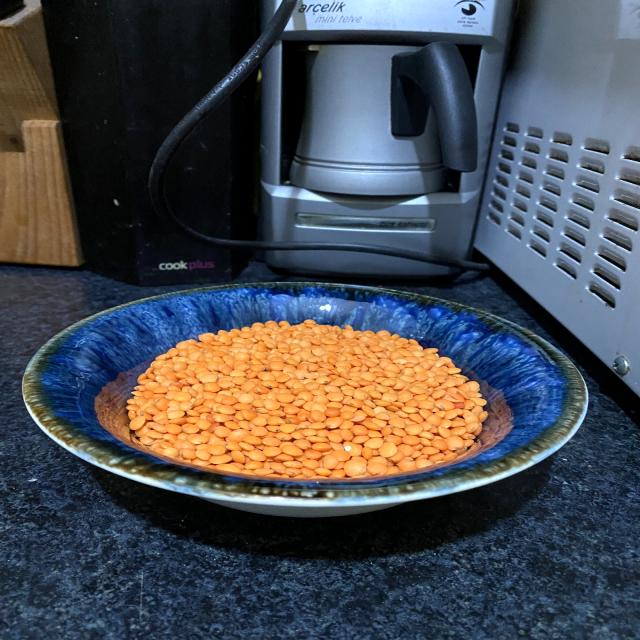red lentils: (53, 282, 568, 517)
